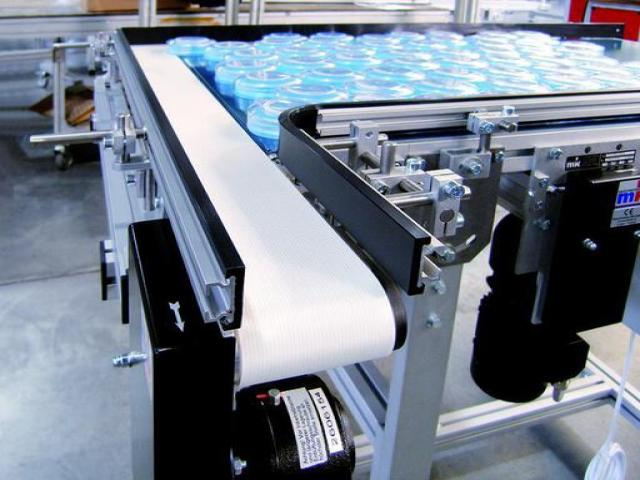conveyor: (82, 19, 436, 392)
